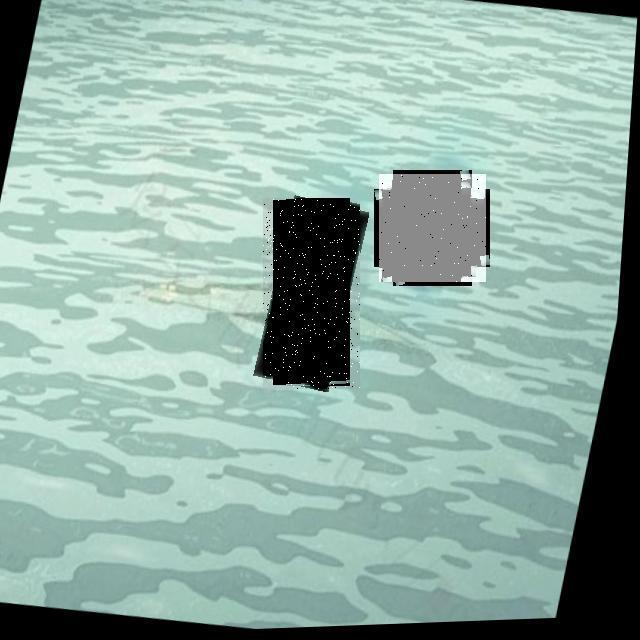swimming: (263, 198, 360, 389), (379, 174, 486, 282)
